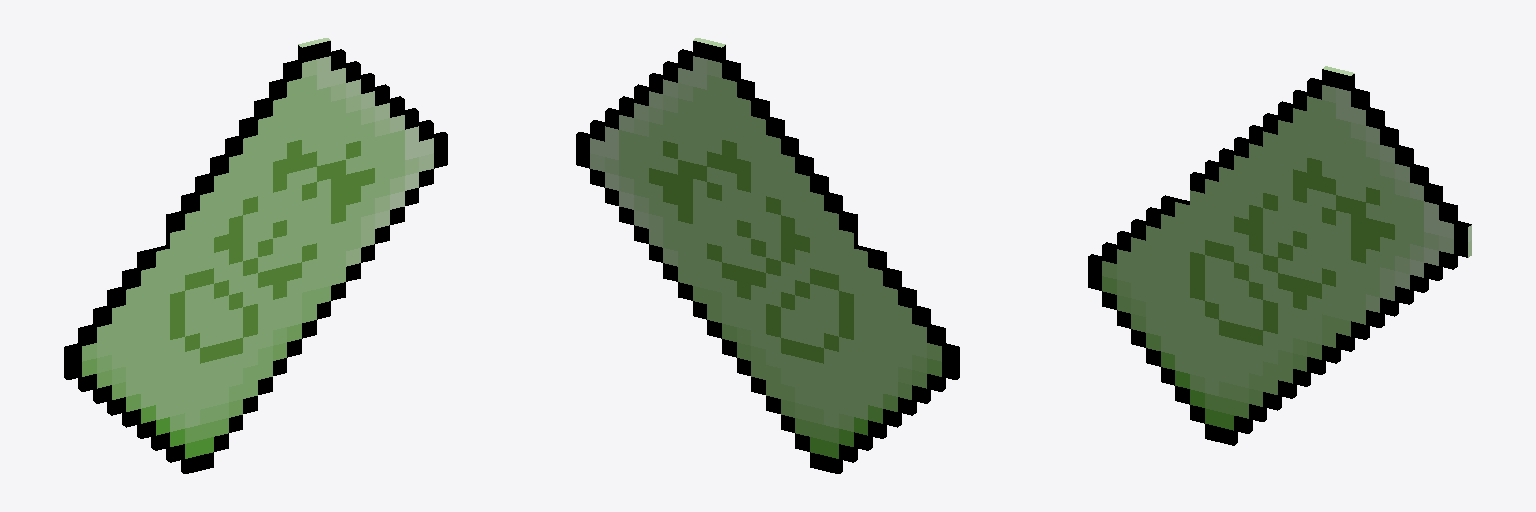
3 views of the same model, side by side, from view 1: azimuth 30°, elevation 25°; view 2: azimuth 150°, elevation 25°; view 3: azimuth 330°, elevation 25° (orthographic).
Bounding box in the file's own units: 26 × 26 × 0.5.
Materials: 1 (1 with a texture image).